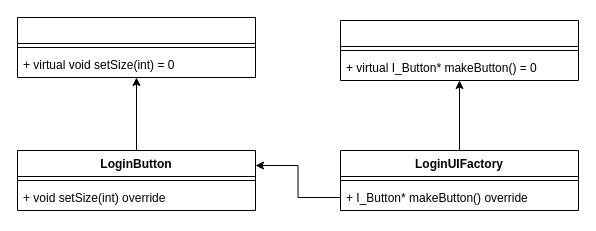
Some shapes in this 596 by 231 pixel diagram are drawn without their labels. Here are the shapes that lost their labels. From the top down, the box of each, then its label:
(16, 16, 256, 78): I_Button
(340, 20, 578, 80): I_UIFactory
